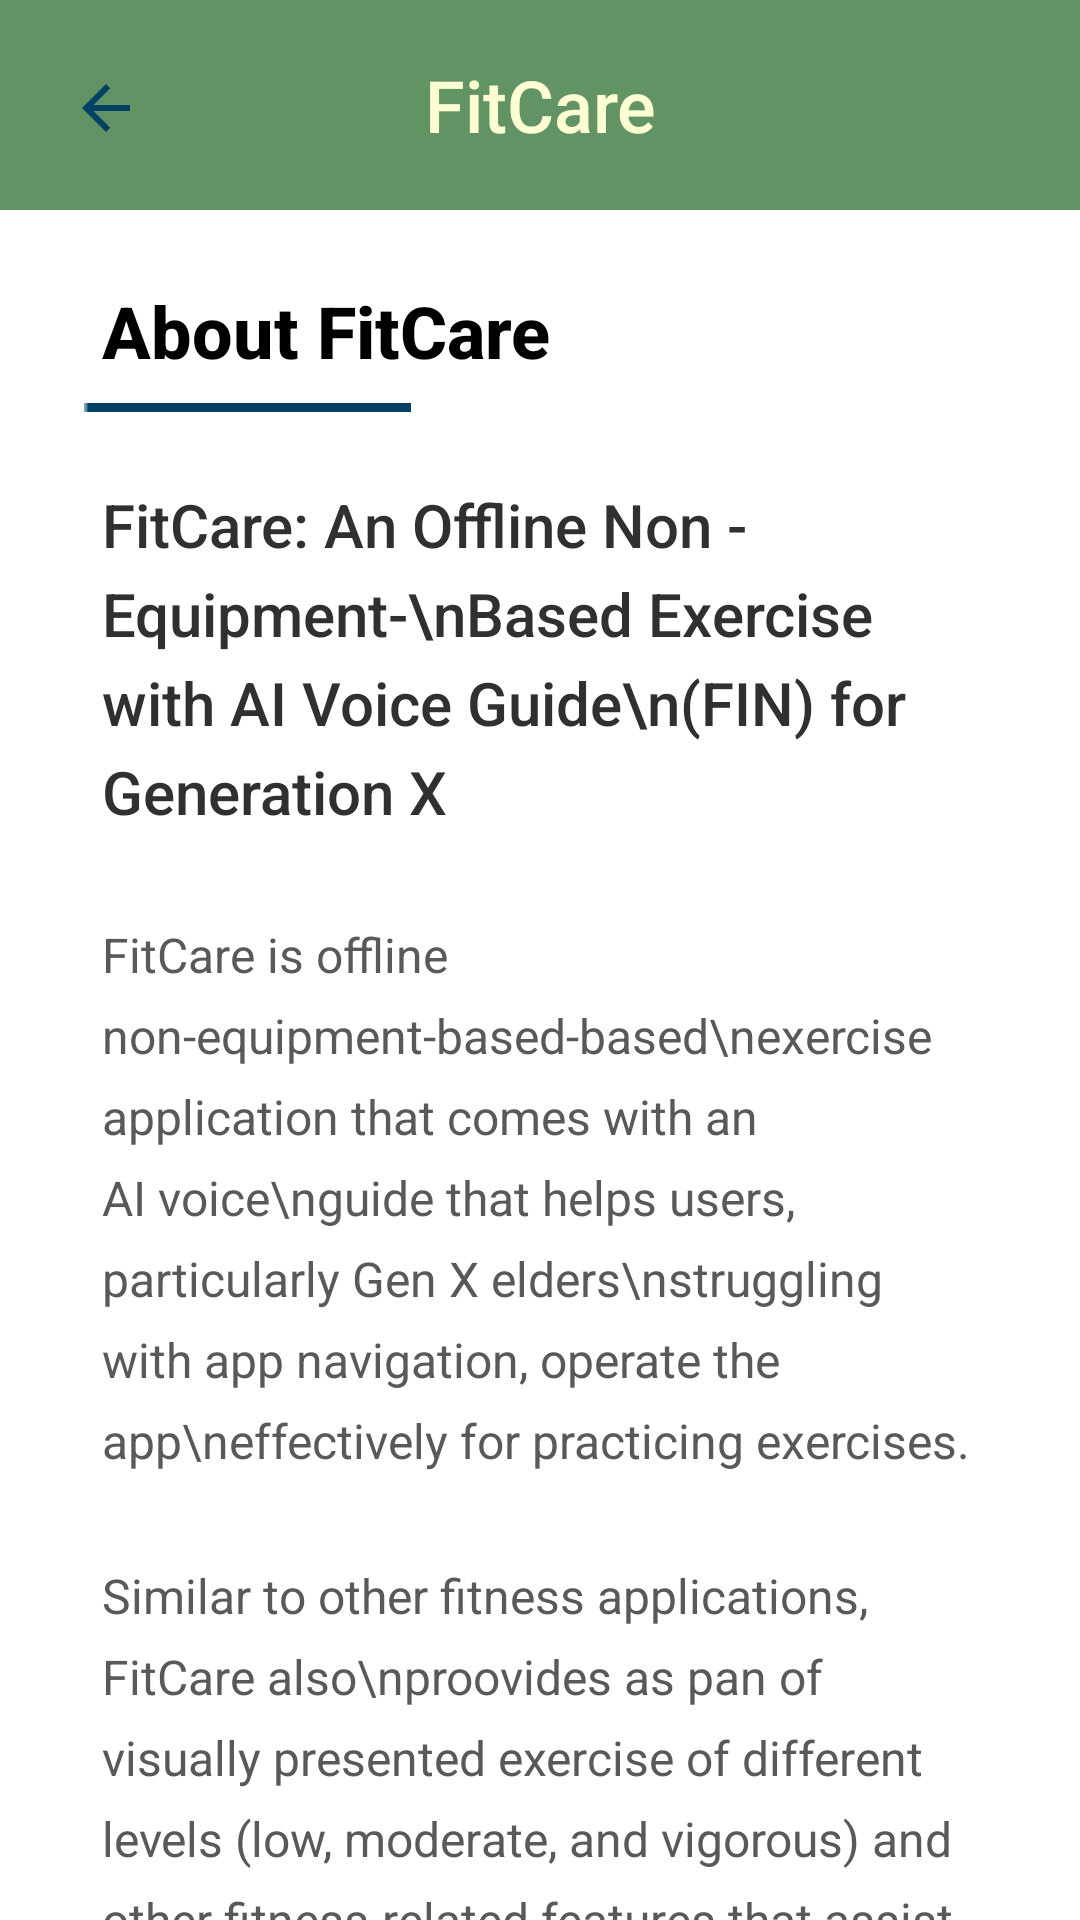

Icon click points for this 1080*1920 phone screenshot, format (x=x, y=y):
back: (x=106, y=108)
